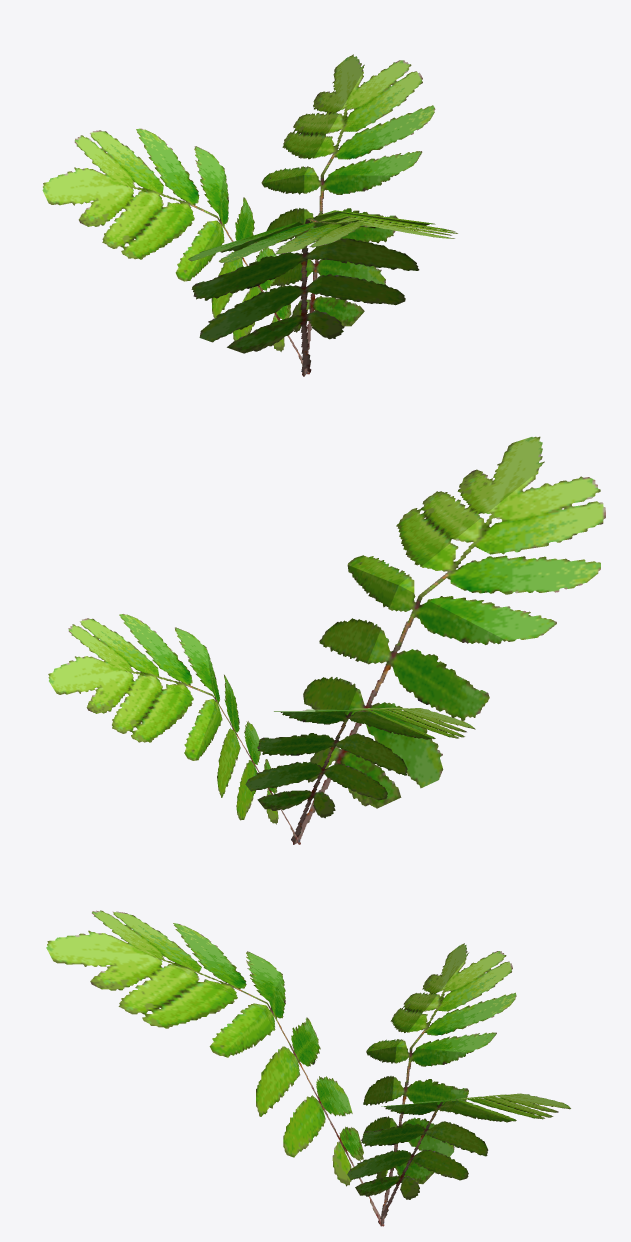
The model's file is fp_fern.glb.
The picture shows the model from 3 angles, top to bottom: view 1: azimuth 30°, elevation 25°; view 2: azimuth 150°, elevation 25°; view 3: azimuth 270°, elevation 25°; orthographic projection. The views are drawn at different scales.
Visible parts, largest first — view 1: _MeshInstance3D_25, _MeshInstance3D_23, _MeshInstance3D_24; view 2: _MeshInstance3D_24, _MeshInstance3D_23, _MeshInstance3D_25; view 3: _MeshInstance3D_24, _MeshInstance3D_25, _MeshInstance3D_23.
Part boxes in pixels (x1,y1,x2,y2): _MeshInstance3D_25: [42, 128, 309, 374]; _MeshInstance3D_23: [261, 54, 435, 376]; _MeshInstance3D_24: [188, 210, 457, 372]; _MeshInstance3D_24: [293, 436, 605, 844]; _MeshInstance3D_23: [48, 614, 300, 844]; _MeshInstance3D_25: [245, 707, 475, 841]; _MeshInstance3D_24: [46, 910, 384, 1226]; _MeshInstance3D_25: [363, 943, 516, 1226]; _MeshInstance3D_23: [347, 1093, 570, 1224].
Size of the model in its own units: 0.9132 by 0.5979 by 1.14.
3 materials, 3 textured.
